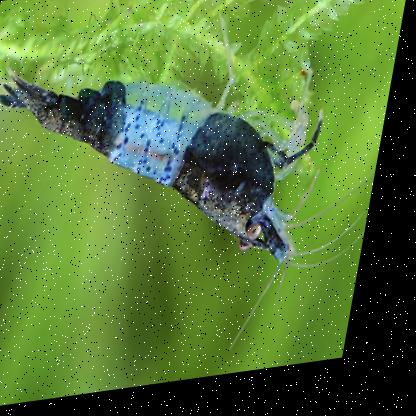shrimp: (0, 29, 346, 310)
